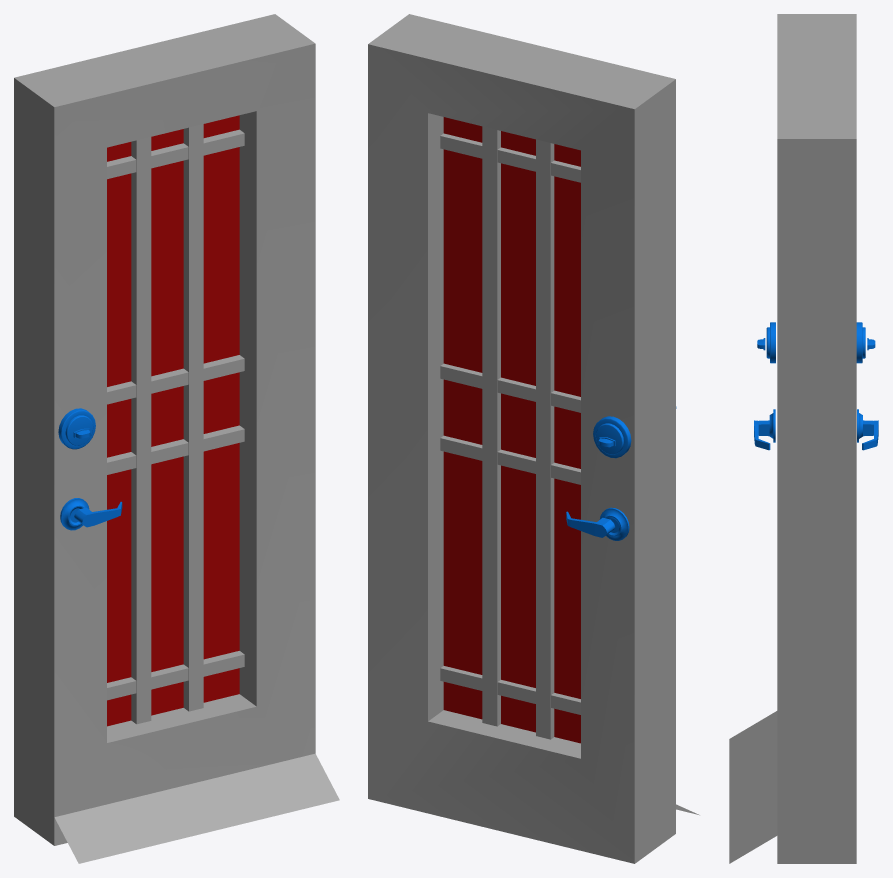
The picture shows the model from 3 angles, left to right: view 1: azimuth 30°, elevation 25°; view 2: azimuth 150°, elevation 25°; view 3: azimuth 270°, elevation 25°; orthographic projection. The views are drawn at different scales.
Visible parts, largest first — view 1: Pb_R; view 2: Pb_R; view 3: Pb_R.
Boxes of the visible parts, x1=… form: Pb_R: x1=14, y1=14, x2=339, y2=863; Pb_R: x1=368, y1=14, x2=699, y2=863; Pb_R: x1=729, y1=14, x2=878, y2=863.
Bounding box in the file's own units: 84.28 × 228 × 42.46.
